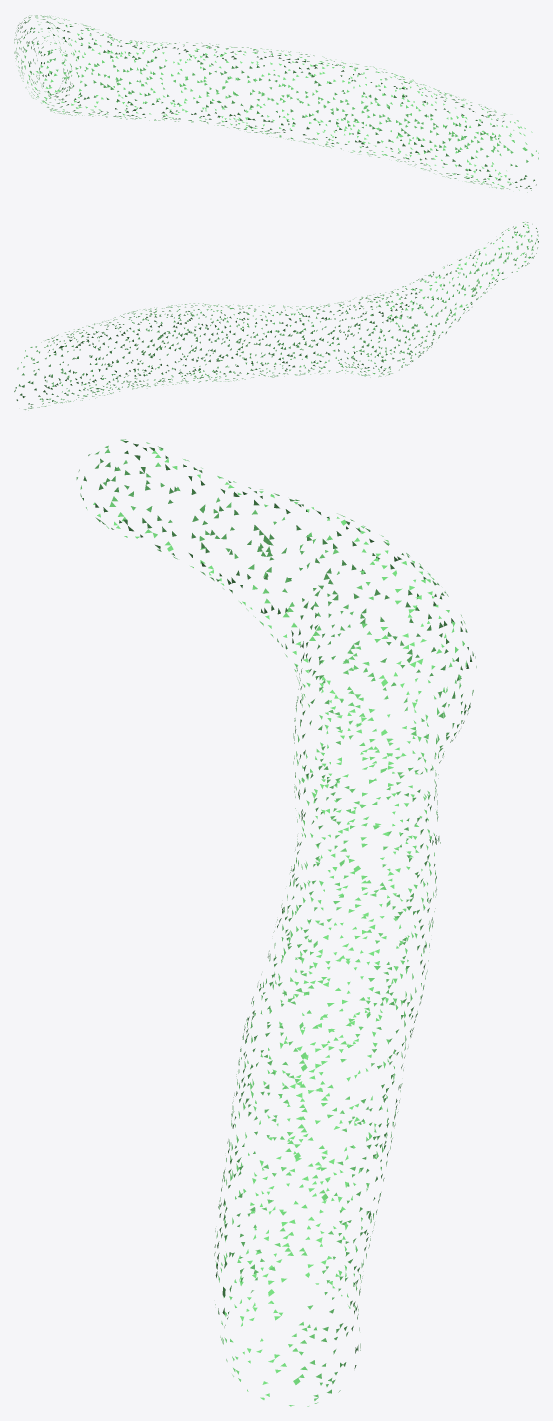
The model's file is morph_018.glb.
3 renders of one model, top to bottom at view 1: azimuth 30°, elevation 25°; view 2: azimuth 150°, elevation 25°; view 3: azimuth 270°, elevation 25°, orthographic. The views are drawn at different scales.
Size of the model in its own units: 119 by 65.13 by 44.69.
